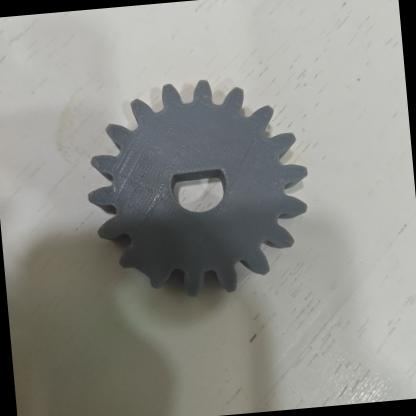defect: (105, 234, 179, 298), (157, 154, 239, 202)
gear: (79, 72, 317, 304)
